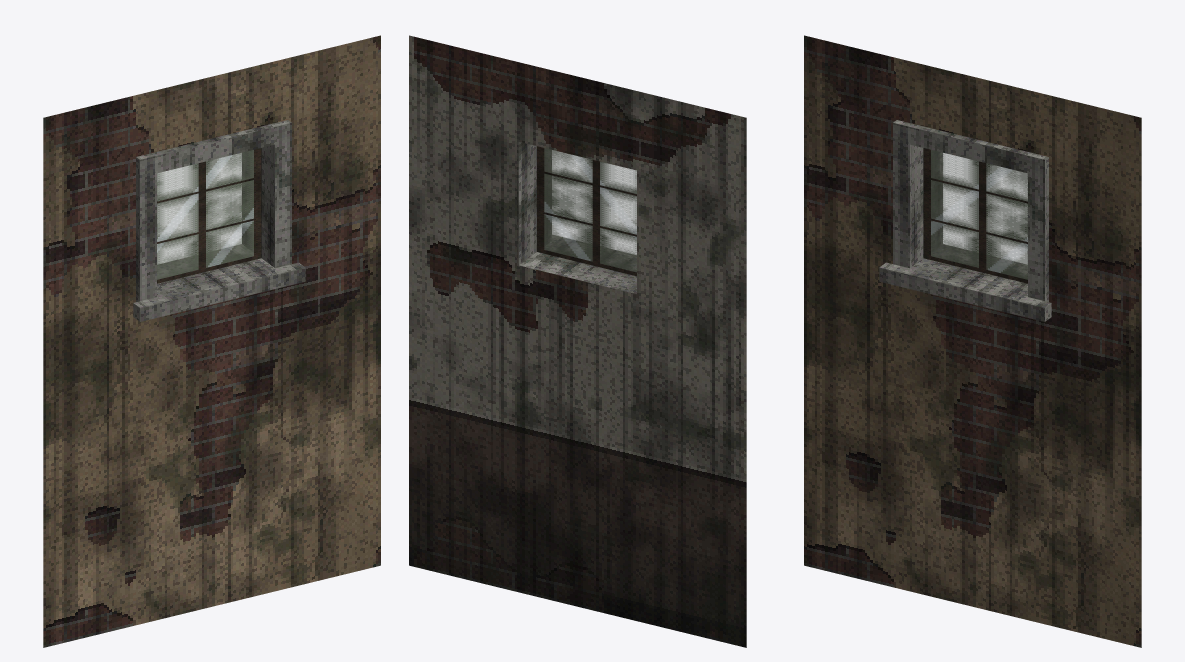
File: ext_window_high.gltf
3 views of the same model, side by side, from view 1: azimuth 30°, elevation 25°; view 2: azimuth 150°, elevation 25°; view 3: azimuth 330°, elevation 25° (orthographic).
Visible parts, largest first — view 1: ext_window_high; view 2: ext_window_high; view 3: ext_window_high.
Part boxes in pixels (x1,y1,x2,y2): ext_window_high: (43,35,380,647); ext_window_high: (409,35,746,647); ext_window_high: (804,35,1141,647).
Size of what is drawn, in the model's own units: 2 by 3 by 0.41.
Materials: 4 (4 with a texture image).
